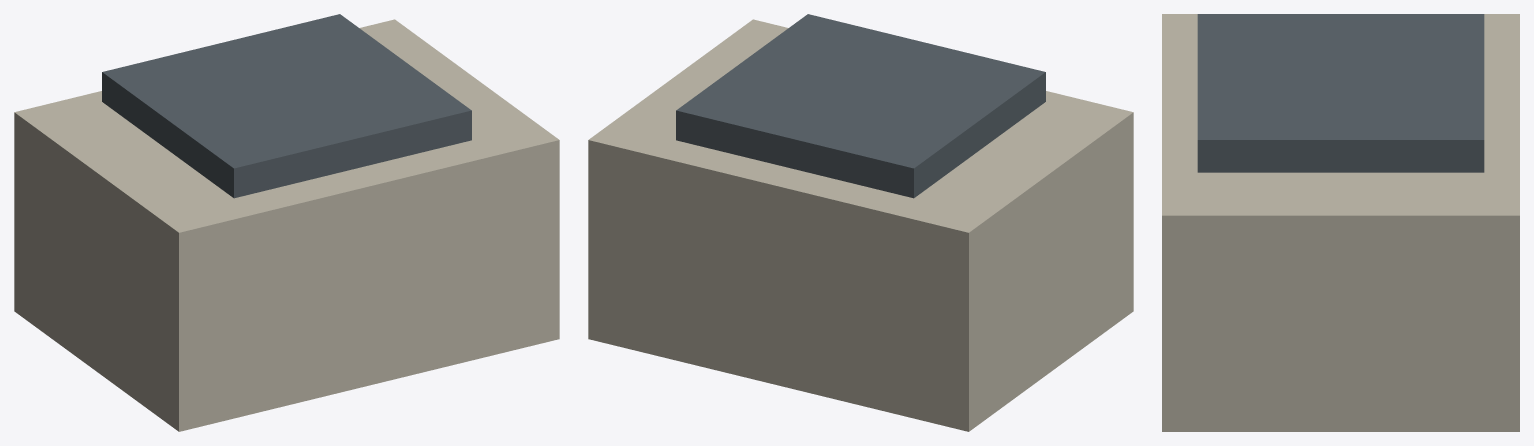
Rendered from propane_stove.glb.
The picture shows the model from 3 angles, left to right: view 1: azimuth 30°, elevation 25°; view 2: azimuth 150°, elevation 25°; view 3: azimuth 270°, elevation 25°; orthographic projection. The views are drawn at different scales.
Visible parts, largest first — view 1: body; view 2: body; view 3: body.
Part boxes in pixels (x1,y1,x2,y2): body: [14, 14, 559, 431]; body: [588, 14, 1133, 431]; body: [1162, 14, 1519, 431].
Bounding box in the file's own units: 0.4 × 0.235 × 0.3.
